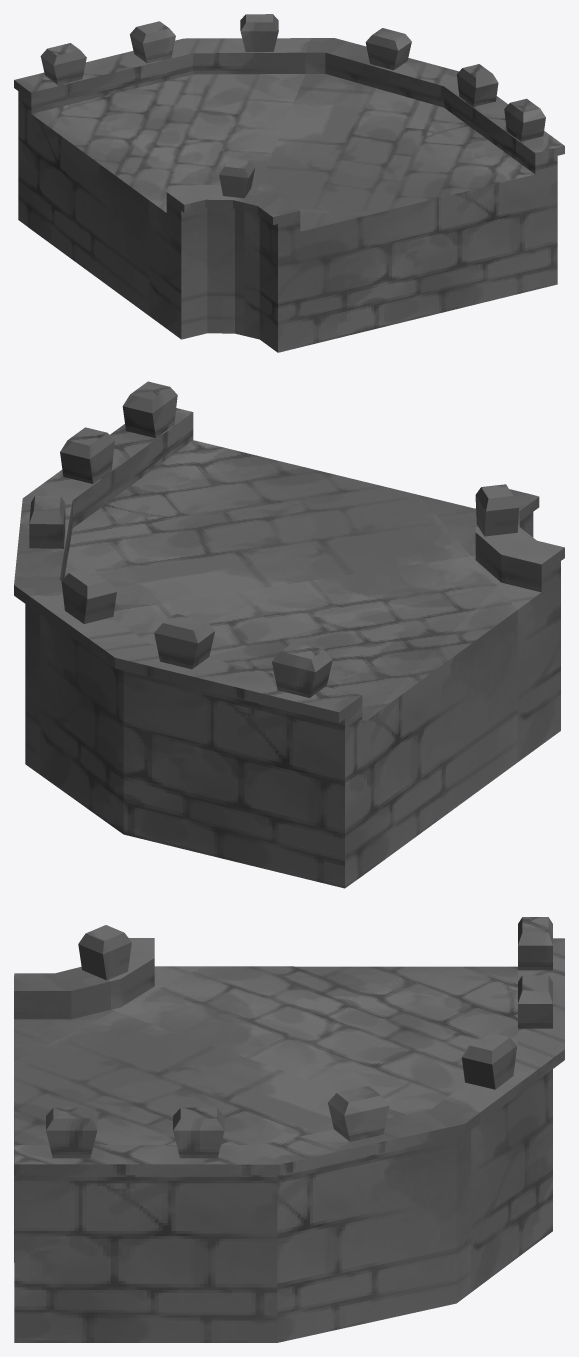
The model's file is c_road.FBX.
3 views of the same model, one above another, from view 1: azimuth 30°, elevation 25°; view 2: azimuth 150°, elevation 25°; view 3: azimuth 270°, elevation 25° (orthographic). The views are drawn at different scales.
Parts seen in each view (by area): view 1: Tube006; view 2: Tube006; view 3: Tube006.
Boxes of the visible parts, x1,y1,x2,y2 form: Tube006: (14,14,564,352); Tube006: (14,381,564,888); Tube006: (14,917,564,1342).
Size of the model in its own units: 345 by 158 by 355.
